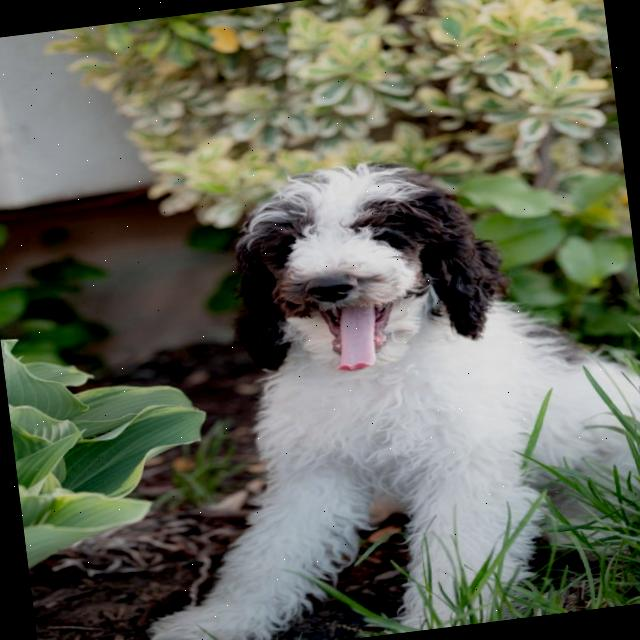Poodle_dog: (192, 136, 524, 414)
